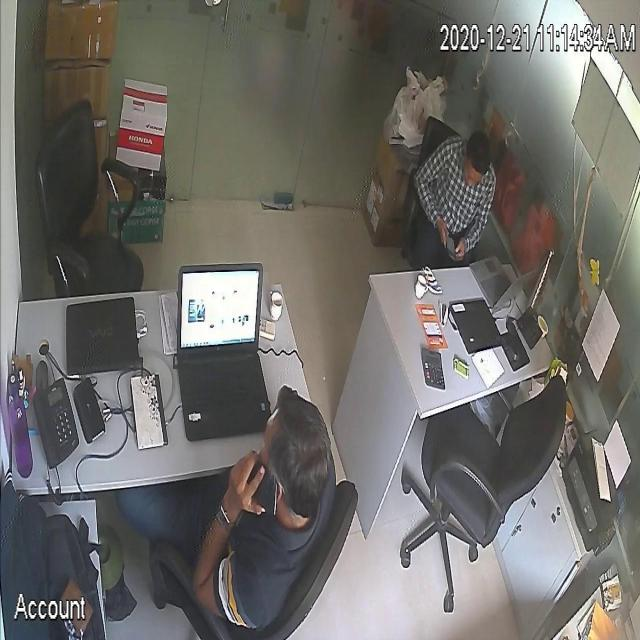chair: (402, 377, 570, 612), (150, 476, 360, 640), (32, 106, 148, 293), (416, 108, 458, 266)
laptop: (176, 255, 272, 441), (63, 294, 143, 372), (472, 246, 538, 310)
person: (119, 386, 341, 633), (417, 130, 495, 266)
phone: (246, 458, 280, 521), (441, 224, 459, 259)
